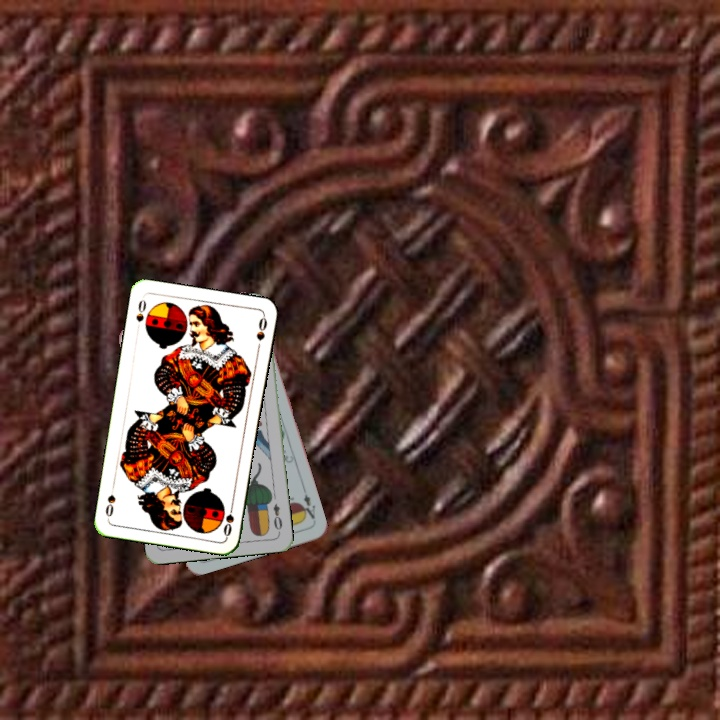EA: (296, 490, 318, 521)
EO: (269, 500, 285, 532)
SO: (219, 499, 237, 539), (132, 295, 149, 334)
